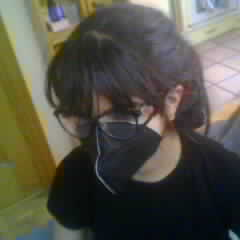with_mask: (54, 64, 164, 182)
